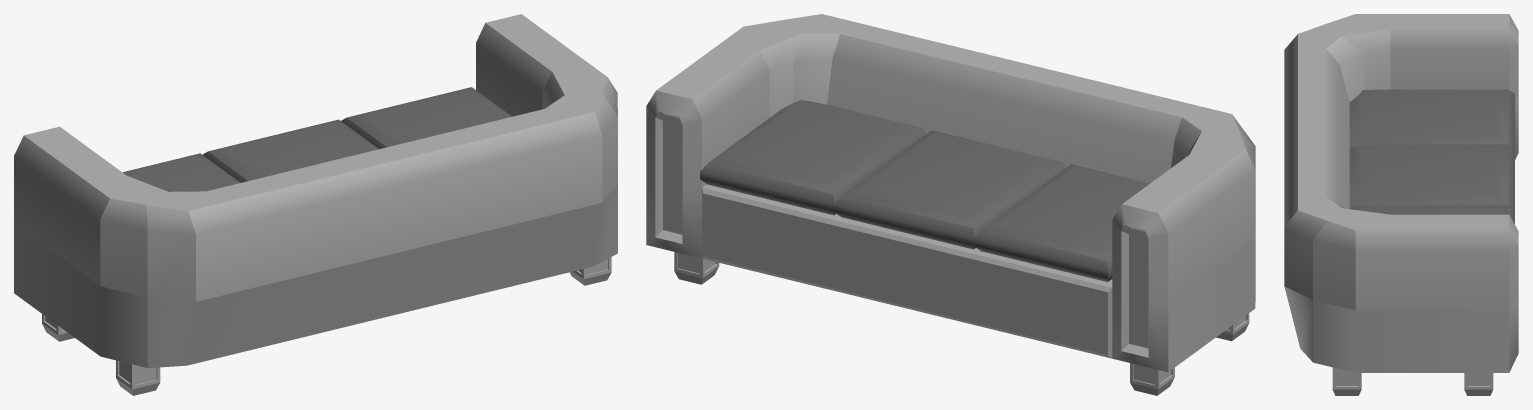
The model's file is CouchModel.fbx.
The picture shows the model from 3 angles, left to right: view 1: azimuth 30°, elevation 25°; view 2: azimuth 150°, elevation 25°; view 3: azimuth 270°, elevation 25°; orthographic projection. The views are drawn at different scales.
Visible parts, largest first — view 1: CouchModel; view 2: CouchModel; view 3: CouchModel.
Part boxes in pixels (<box>): CouchModel: <box>14,14,617,395</box>; CouchModel: <box>646,14,1255,395</box>; CouchModel: <box>1284,14,1518,395</box>.
Bounding box in the file's own units: 262 × 92.93 × 115.
